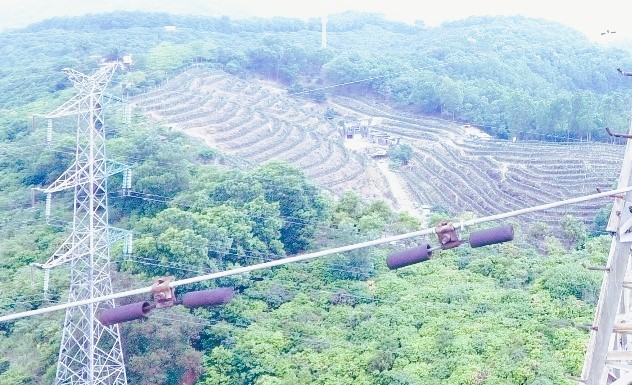Shockproof hammer: (92, 265, 243, 330), (379, 210, 522, 274)
